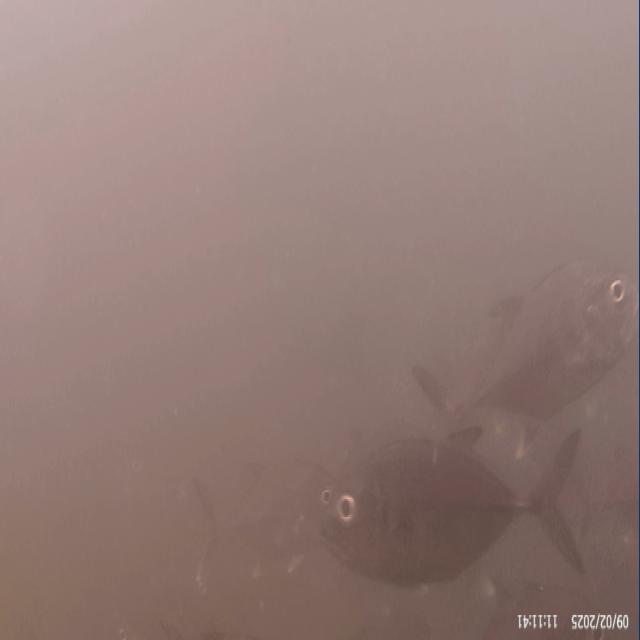ikan: (410, 250, 637, 454), (317, 421, 587, 588)
